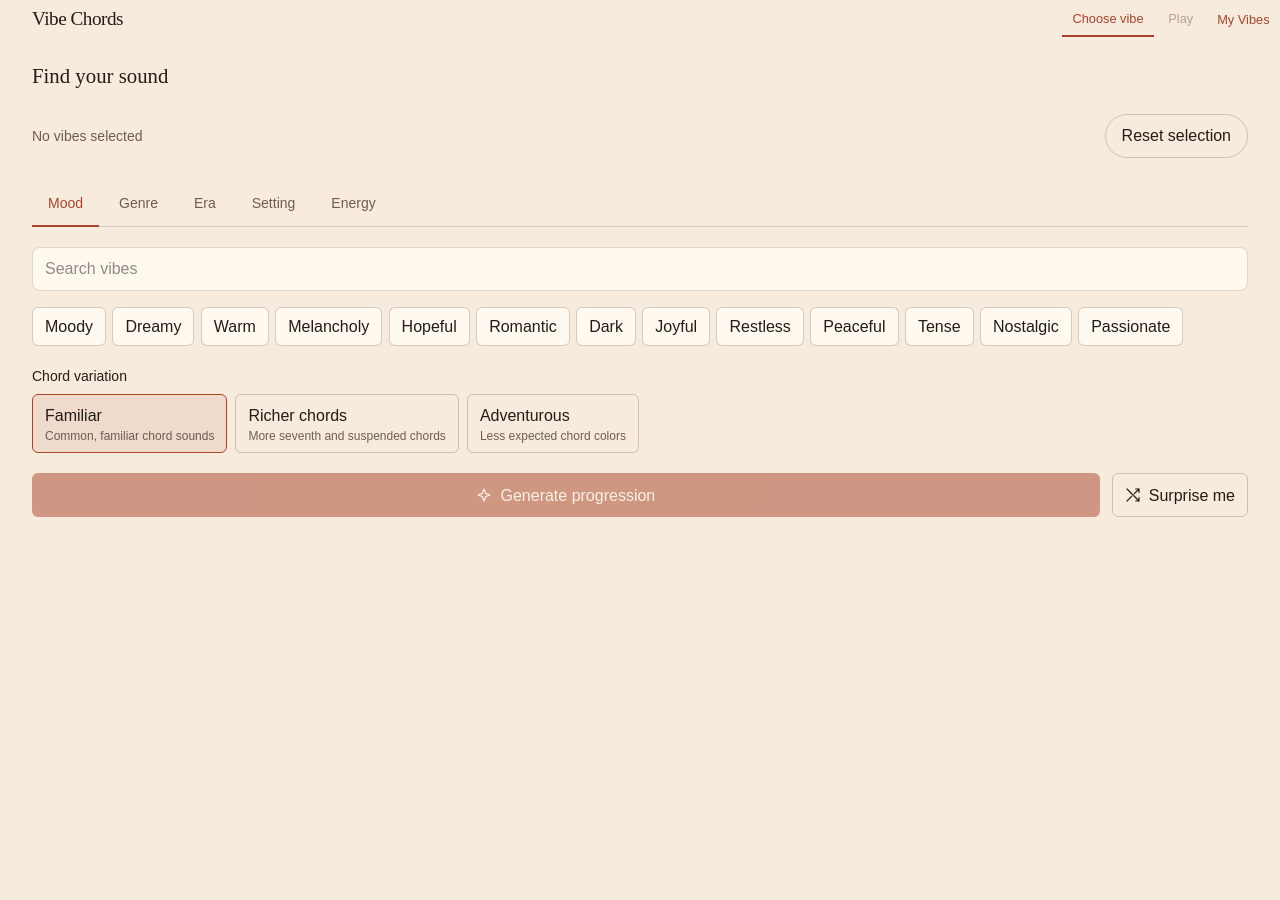
Scenario: sends the selected richer mode and keeps the result playable
This screenshot has width=1280, height=900.
Expected: the element named "Progression variation" is shown, [32,368,639,454]
Click the button "Moody" at (69, 326), box [32,307,106,346]
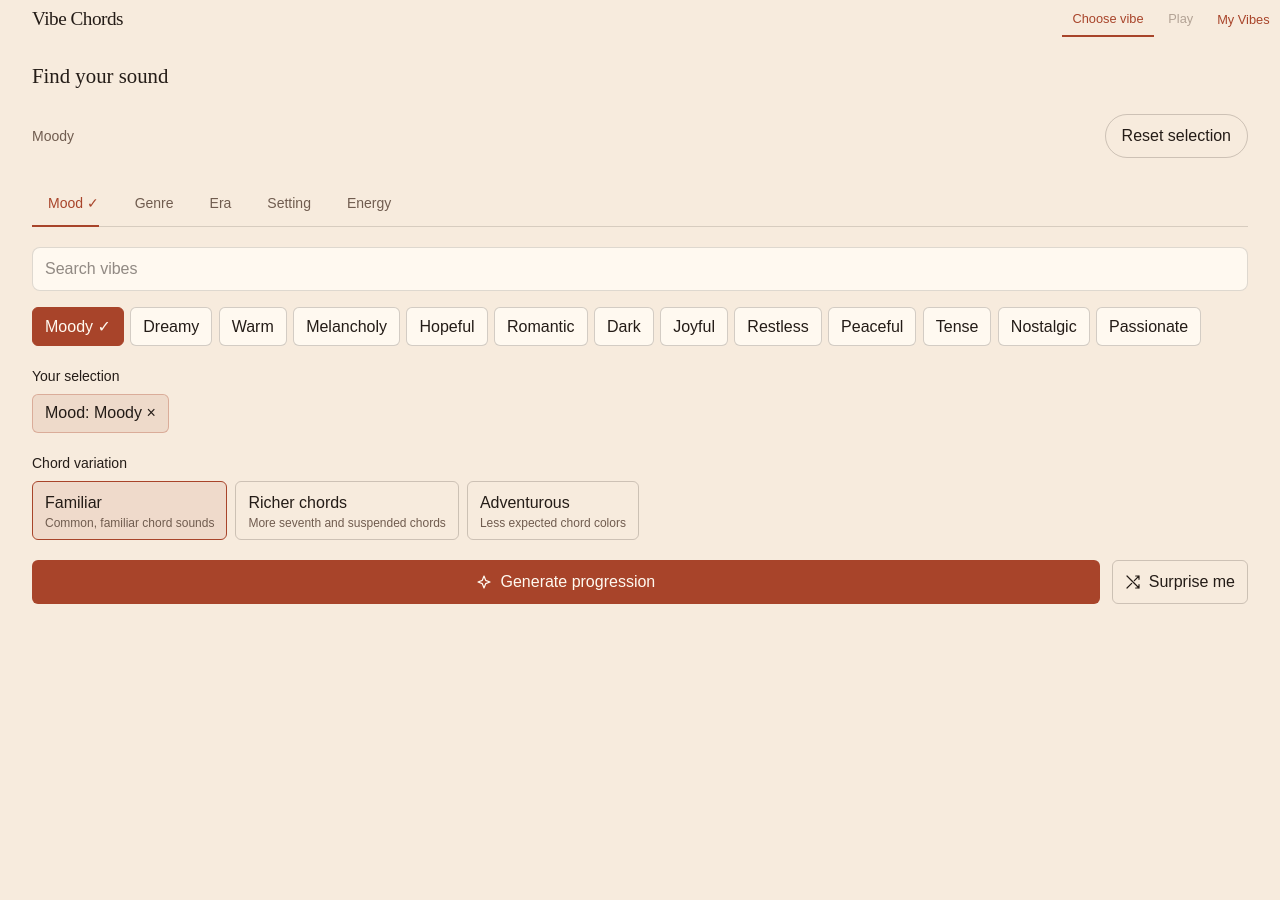
Click the button "Richer chords More seventh and suspended chords" at (347, 510), box [235,481,459,540]
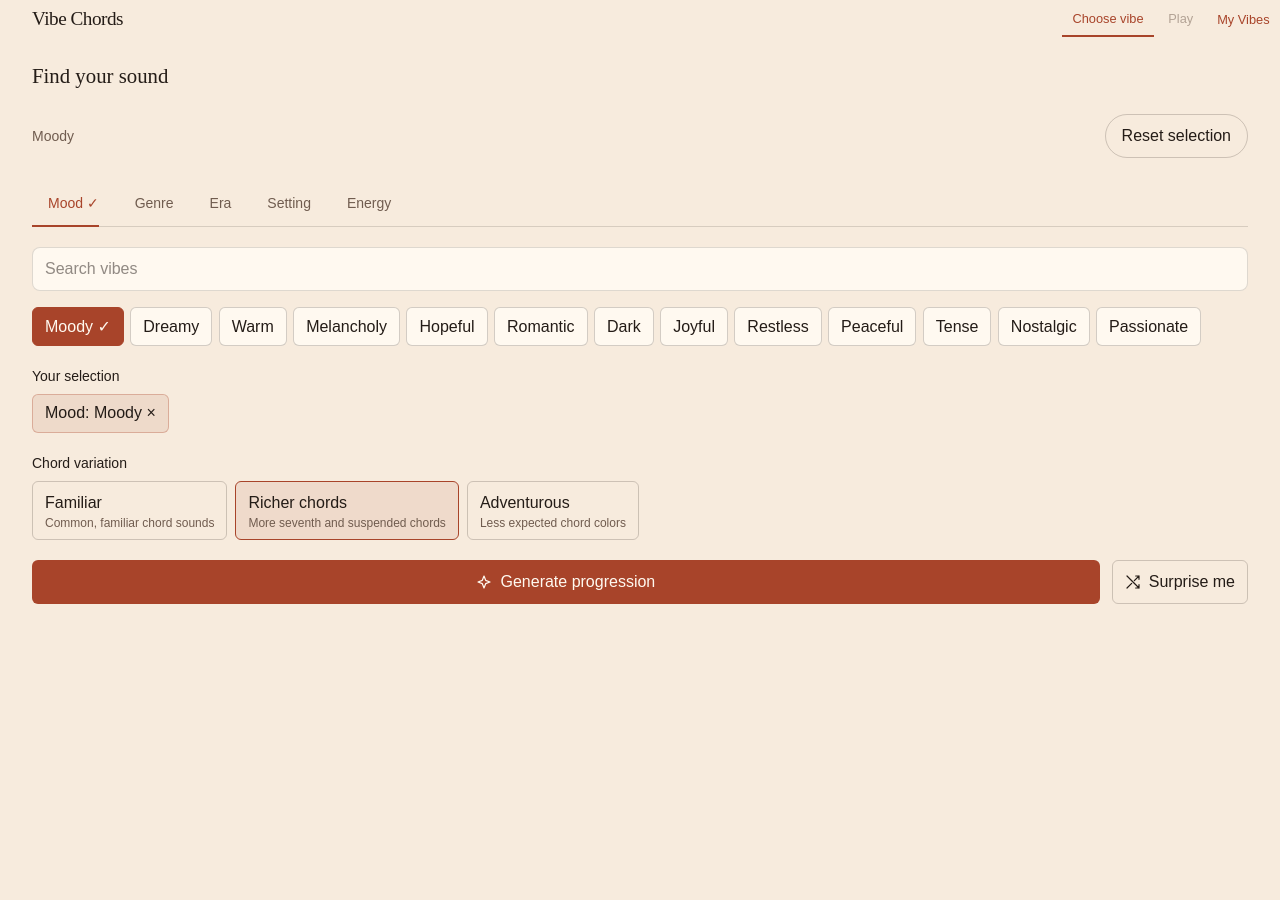
Click the button "Generate progression" at (566, 582), box [32,560,1100,604]
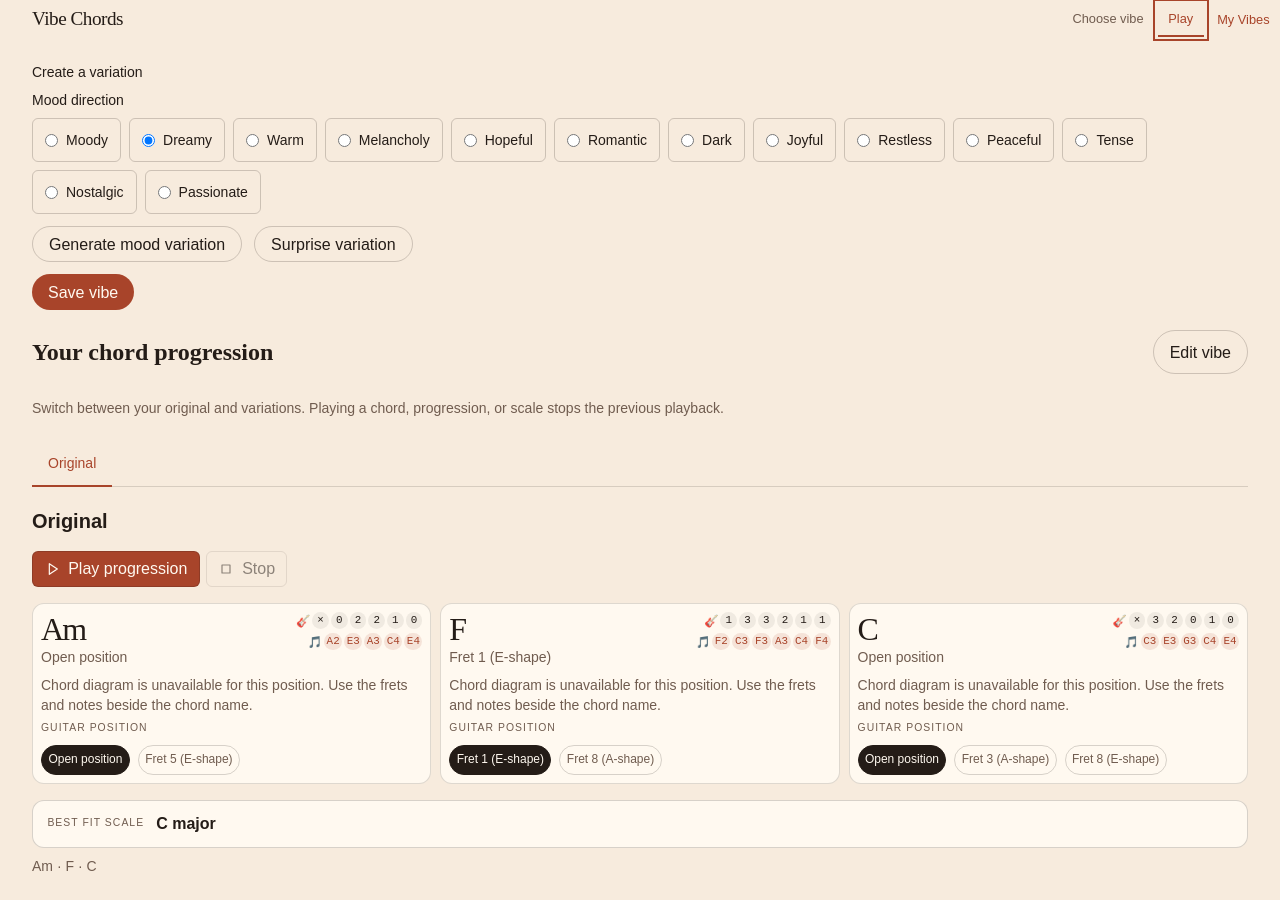
Expected: the tab "Play" is shown, [1158,4,1204,36]
Expected: the element named "Guitar position for Am, chord 1" is shown, [41,722,240,775]
